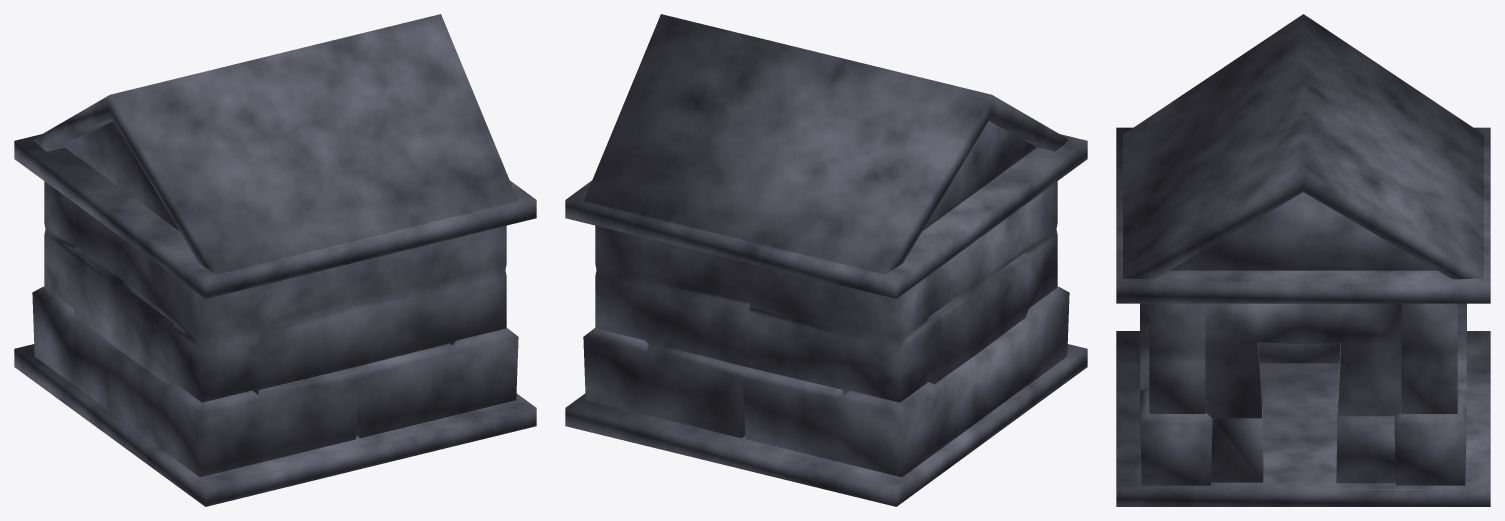
File: GraveHouse.glb
The picture shows the model from 3 angles, left to right: view 1: azimuth 30°, elevation 25°; view 2: azimuth 150°, elevation 25°; view 3: azimuth 270°, elevation 25°; orthographic projection. The views are drawn at different scales.
Parts seen in each view (by area): view 1: House; view 2: House; view 3: House.
Part boxes in pixels (box(x1,y1,x2,y2)): House: box(14, 14, 536, 506); House: box(565, 14, 1087, 506); House: box(1116, 14, 1490, 506).
Size of the model in its own units: 6.92 by 6.83 by 6.92.
1 material, 1 textured.
